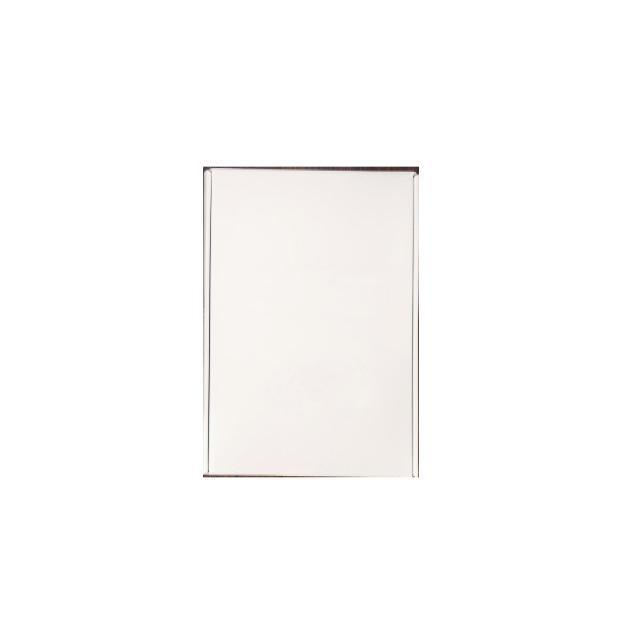Cardboard: (203, 163, 420, 482)
